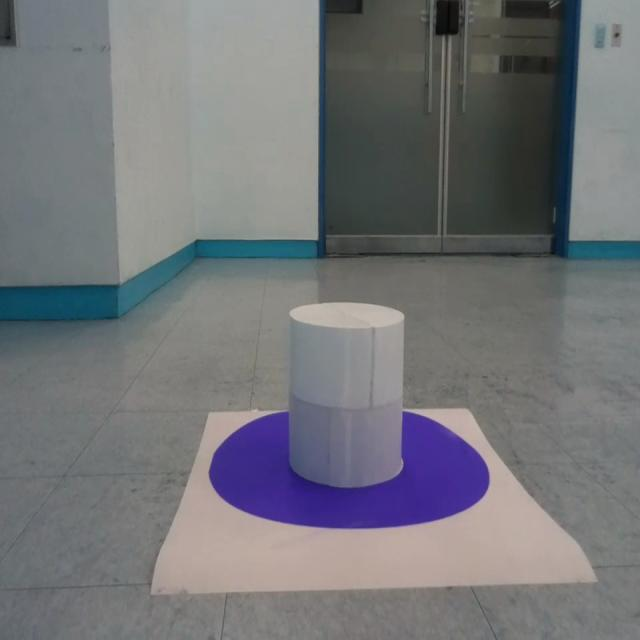cylinder: (288, 301, 406, 487)
